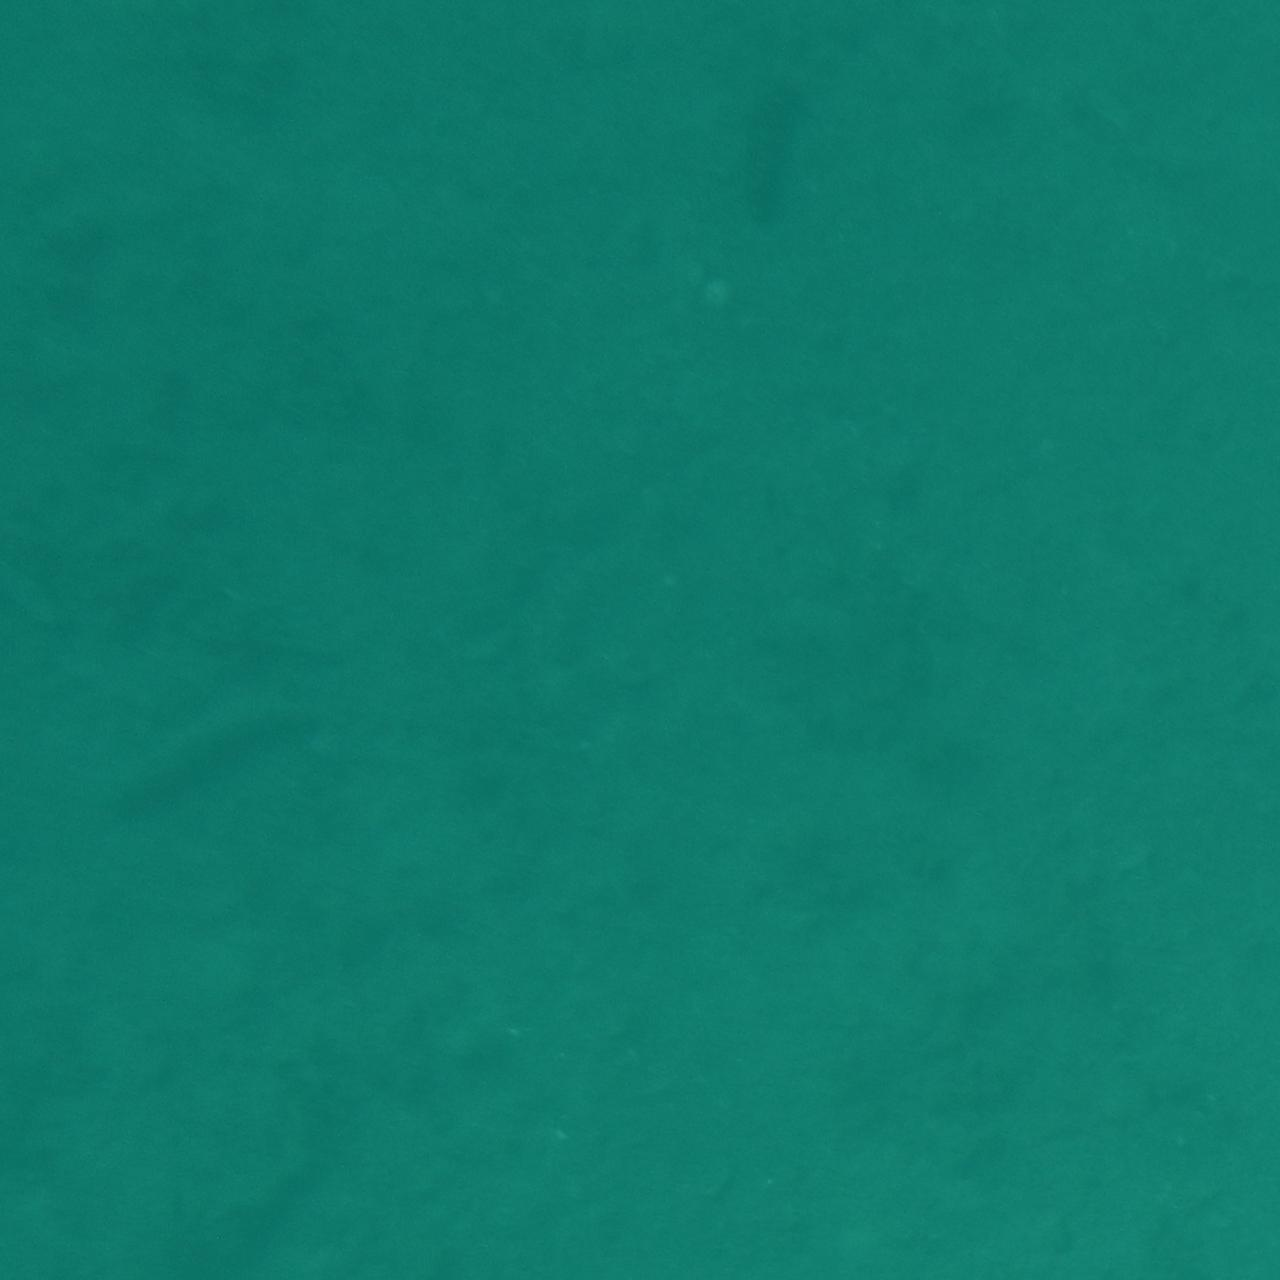Holothuria tubulosa: (114, 648, 350, 828), (704, 47, 836, 259), (947, 0, 1151, 94), (539, 1182, 681, 1280)
